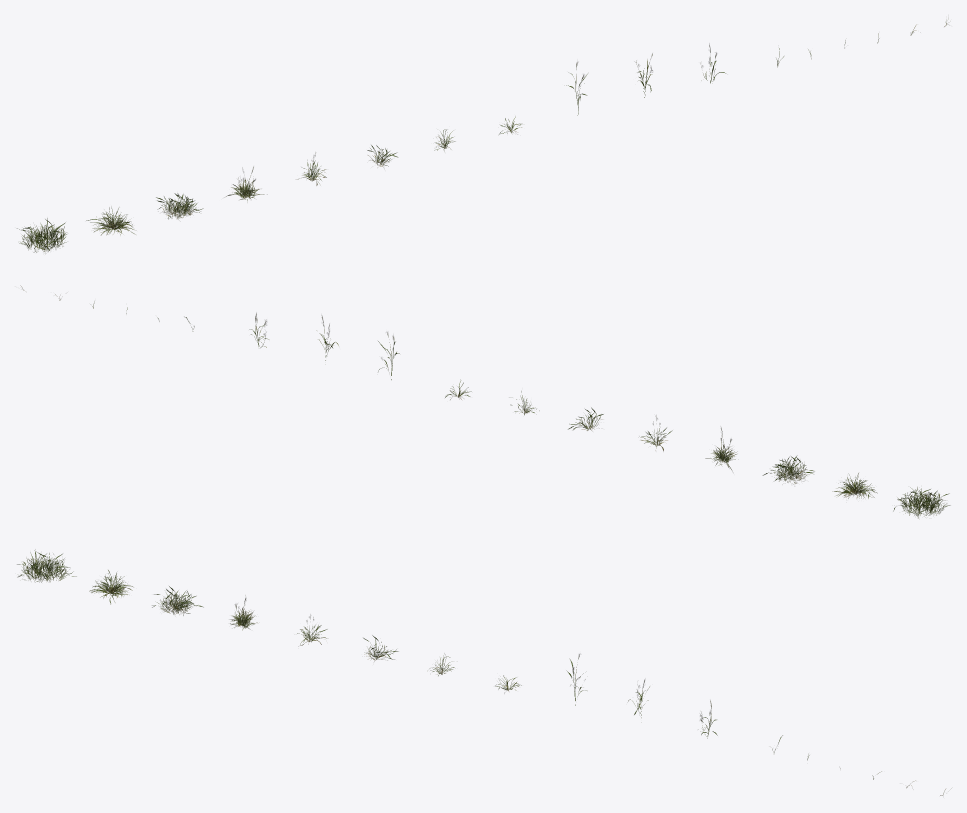
Rendered from ph_grass_medium_01_lod0.glb.
The picture shows the model from 3 angles, top to bottom: view 1: azimuth 30°, elevation 25°; view 2: azimuth 150°, elevation 25°; view 3: azimuth 330°, elevation 25°; orthographic projection.
Visible parts, largest first — view 1: grass_medium_01_large_a_LOD0, grass_medium_01_large_c_LOD0, grass_medium_01_large_b_LOD0; view 2: grass_medium_01_large_a_LOD0, grass_medium_01_large_c_LOD0; view 3: grass_medium_01_large_a_LOD0, grass_medium_01_large_c_LOD0.
Part boxes in pixels (x1=…): grass_medium_01_large_a_LOD0: x1=17, y1=218, x2=66, y2=252; grass_medium_01_large_c_LOD0: x1=156, y1=193, x2=203, y2=219; grass_medium_01_large_b_LOD0: x1=86, y1=207, x2=135, y2=235; grass_medium_01_large_a_LOD0: x1=893, y1=487, x2=950, y2=518; grass_medium_01_large_c_LOD0: x1=762, y1=455, x2=814, y2=484; grass_medium_01_large_a_LOD0: x1=17, y1=549, x2=76, y2=582; grass_medium_01_large_c_LOD0: x1=152, y1=586, x2=203, y2=615.
Bounding box in the file's own units: 5.6 × 0.3418 × 0.3266.
1 material, 1 textured.
